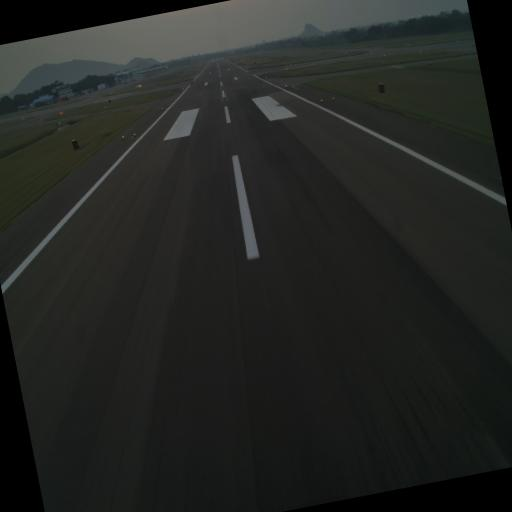on: (331, 94, 336, 104), (132, 132, 138, 138), (121, 134, 126, 141), (320, 97, 324, 103)
